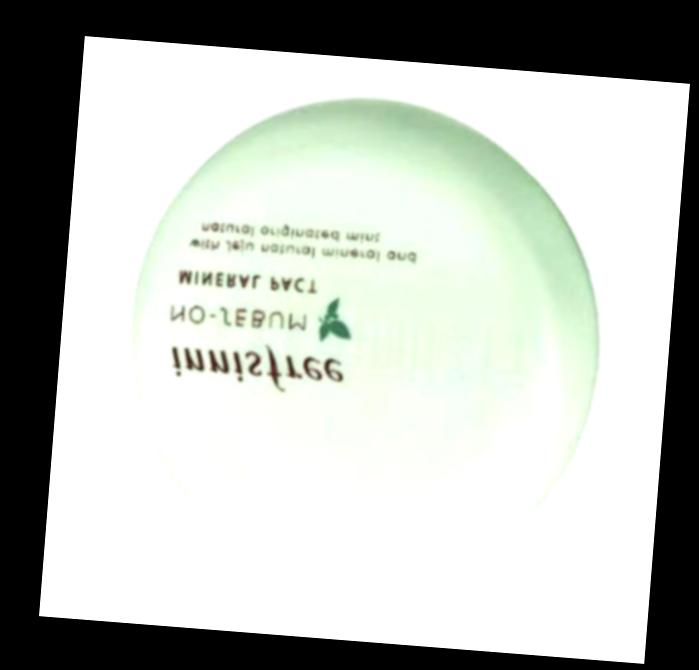cosmetic: (108, 77, 622, 605)
